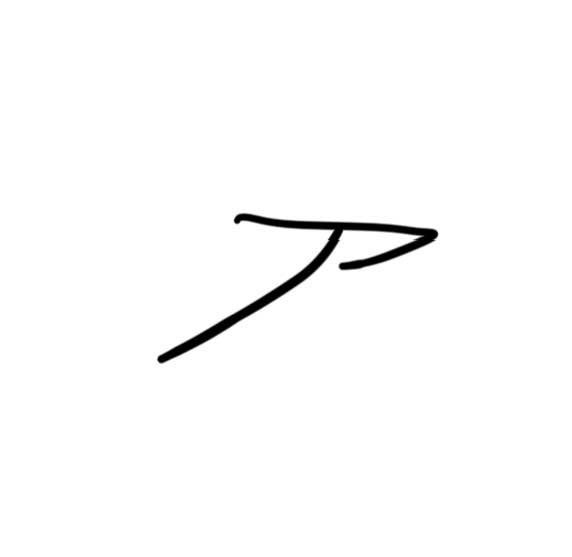a: (148, 196, 449, 367)
